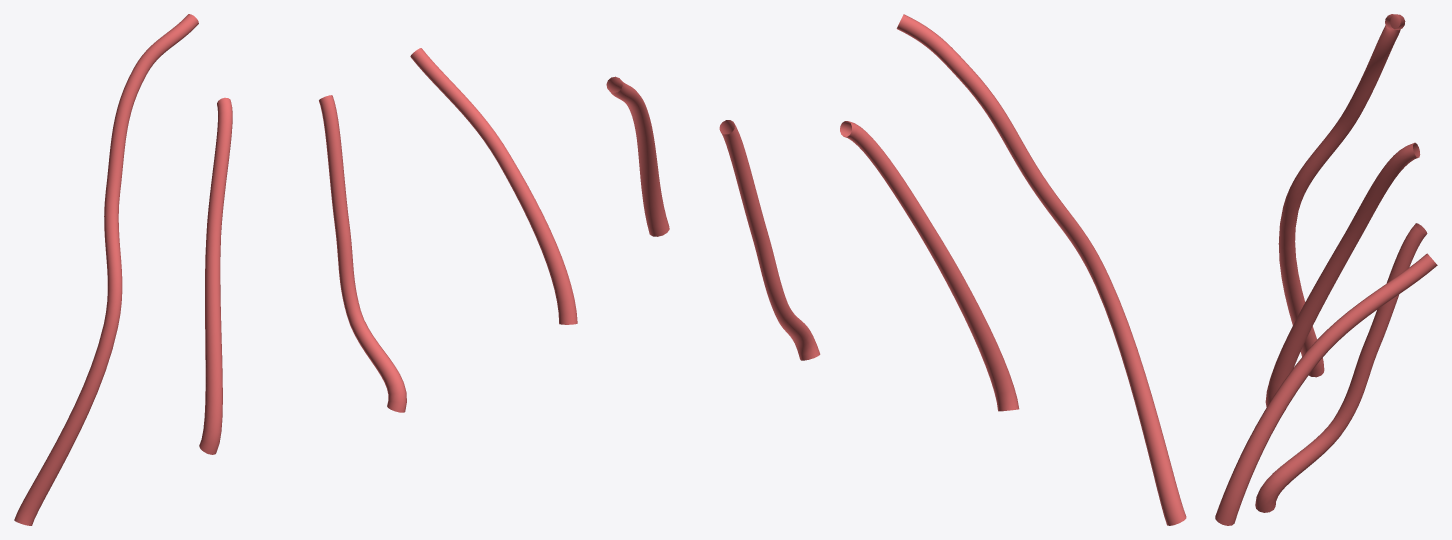
The model's file is Common_palmar_digital_arteries.r_BezierCurve.270.glb.
3 renders of one model, left to right at view 1: azimuth 30°, elevation 25°; view 2: azimuth 150°, elevation 25°; view 3: azimuth 270°, elevation 25°, orthographic. The views are drawn at different scales.
Parts seen in each view (by area): view 1: Common_palmar_digital_arteries.r_BezierCurve.270; view 2: Common_palmar_digital_arteries.r_BezierCurve.270; view 3: Common_palmar_digital_arteries.r_BezierCurve.270.
Boxes of the visible parts, box(x1,y1,x2,y2) form: Common_palmar_digital_arteries.r_BezierCurve.270: box(14, 14, 577, 525); Common_palmar_digital_arteries.r_BezierCurve.270: box(606, 14, 1186, 525); Common_palmar_digital_arteries.r_BezierCurve.270: box(1215, 14, 1437, 525).
Bounding box in the file's own units: 0.0566 × 0.0451 × 0.0195.
